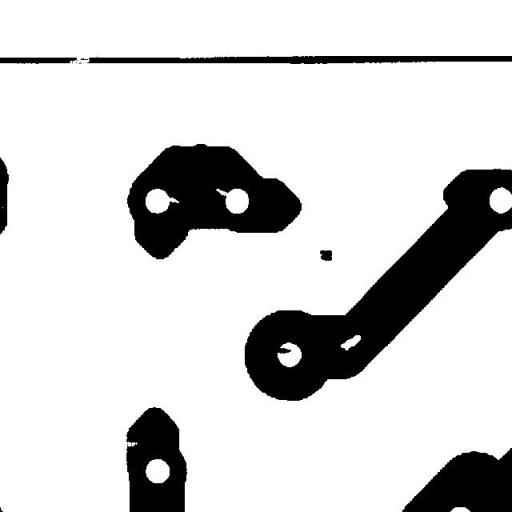copper: (312, 242, 339, 268)
mousebite: (208, 181, 236, 205), (116, 432, 145, 454), (156, 190, 186, 210)
open: (62, 49, 96, 75)
pin-hole: (333, 327, 368, 358)
spur: (268, 340, 298, 361)
